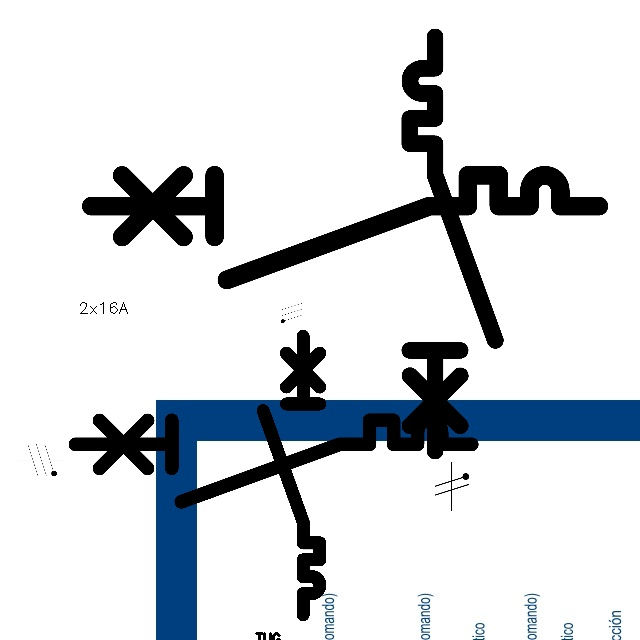interruptor_termomagnetico: (78, 162, 612, 293), (399, 26, 505, 462), (65, 410, 482, 512), (256, 329, 327, 621)
